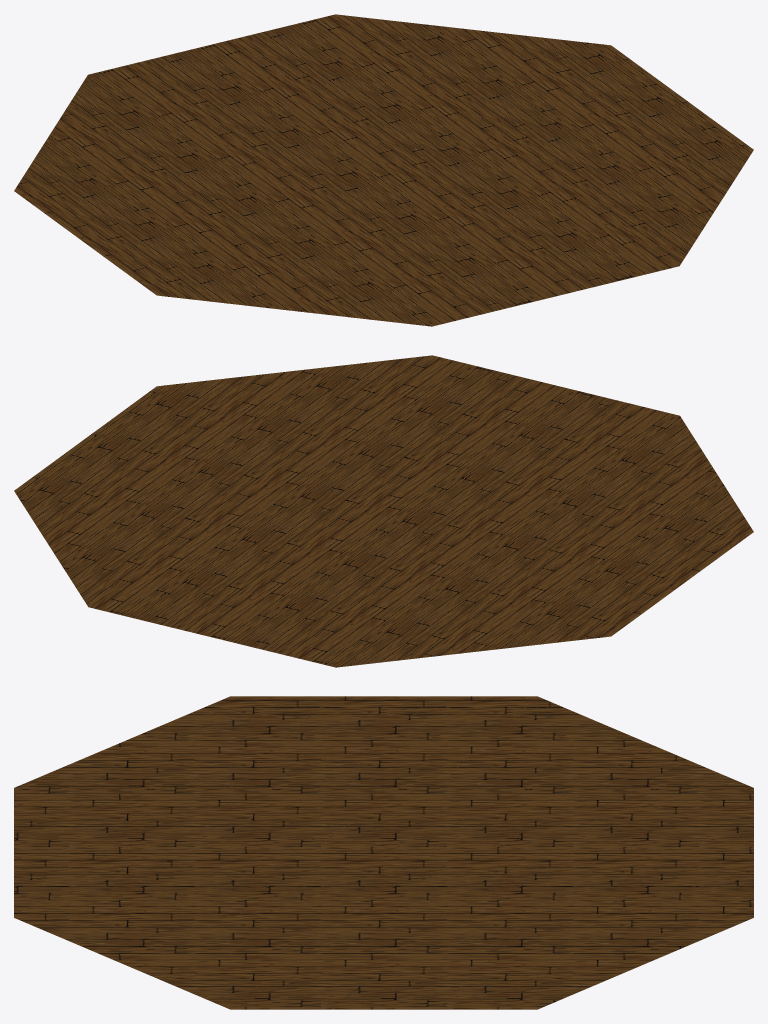
Rendered from ceiling_fix.fbx.
3 views of the same model, one above another, from view 1: azimuth 30°, elevation 25°; view 2: azimuth 150°, elevation 25°; view 3: azimuth 270°, elevation 25° (orthographic). The views are drawn at different scales.
Parts seen in each view (by area): view 1: main_room_ceiling; view 2: main_room_ceiling; view 3: main_room_ceiling.
Boxes of the visible parts, x1,y1,x2,y2 form: main_room_ceiling: (14, 14, 753, 326); main_room_ceiling: (14, 355, 753, 667); main_room_ceiling: (14, 696, 753, 1009).
Bounding box in the file's own units: 724 × 0.000118 × 723.
Materials: 1 (1 with a texture image).
